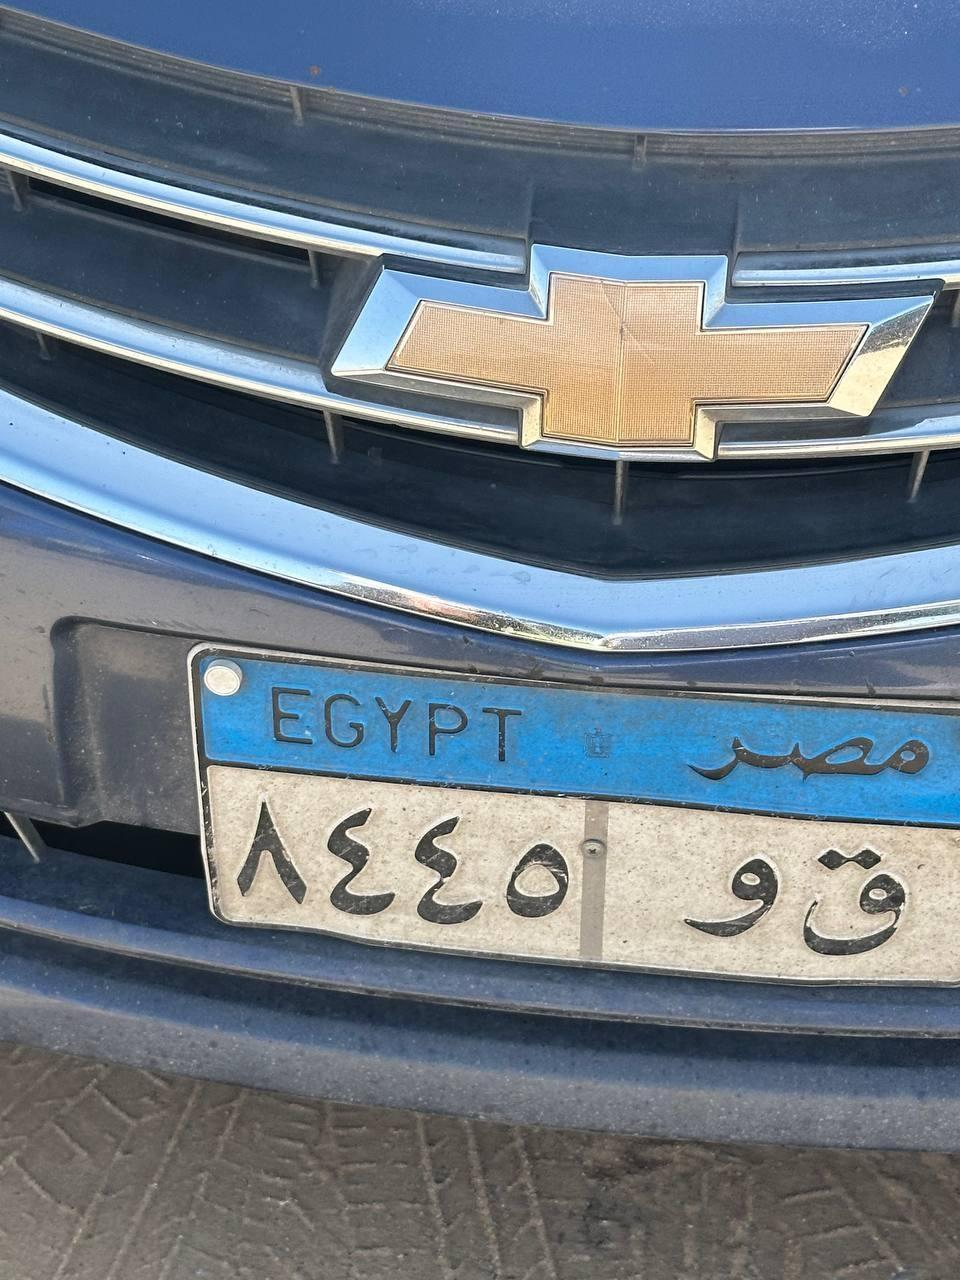4: (324, 795, 398, 920), (413, 806, 481, 930)
5: (510, 829, 576, 932)
8: (227, 802, 313, 906)
License Plate: (183, 638, 958, 1029)
Q: (786, 840, 918, 956)
Wow: (682, 846, 776, 940)
